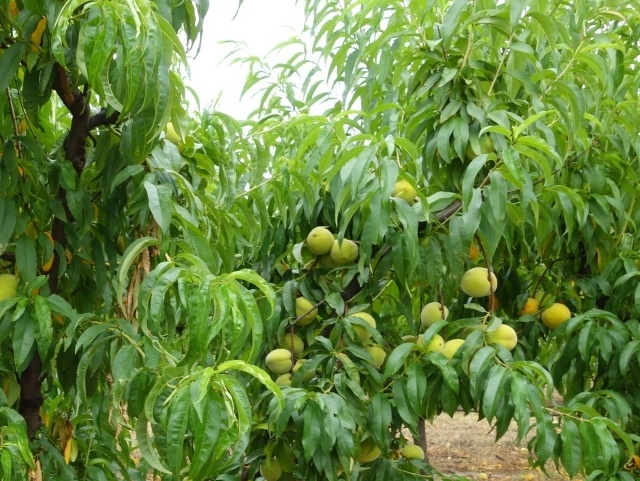peach: (460, 262, 499, 302), (303, 221, 337, 260), (357, 334, 391, 370), (484, 320, 518, 356), (350, 306, 382, 343), (540, 299, 575, 332), (325, 236, 360, 268), (513, 294, 552, 322), (419, 297, 452, 330), (391, 176, 422, 211), (292, 293, 324, 326), (265, 345, 296, 378), (414, 328, 448, 357), (443, 334, 475, 364), (397, 438, 427, 466), (280, 331, 307, 359), (286, 354, 313, 378), (272, 367, 298, 391), (258, 457, 284, 481)
